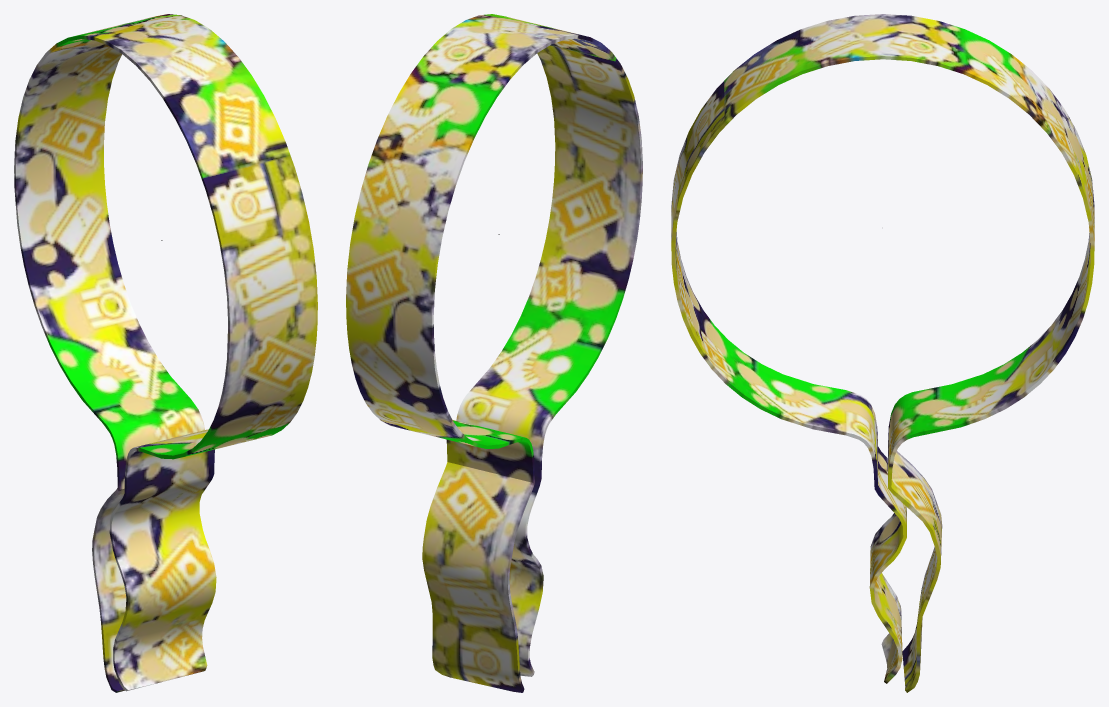
Rendered from opaska4_comp.glb.
3 views of the same model, side by side, from view 1: azimuth 30°, elevation 25°; view 2: azimuth 150°, elevation 25°; view 3: azimuth 270°, elevation 25° (orthographic). The views are drawn at different scales.
Parts seen in each view (by area): view 1: BezierCircle.012; view 2: BezierCircle.012; view 3: BezierCircle.012.
Boxes of the visible parts, x1=… form: BezierCircle.012: x1=14, y1=14, x2=317, y2=692; BezierCircle.012: x1=346, y1=14, x2=642, y2=692; BezierCircle.012: x1=671, y1=14, x2=1094, y2=692.
Bounding box in the file's own units: 27.24 × 191 × 115.
2 materials, 2 textured.
